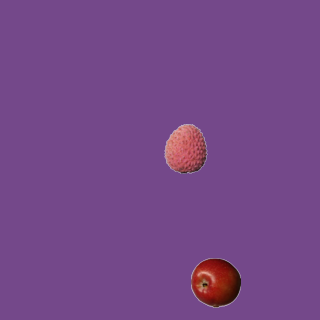Apple Braeburn: (190, 257, 240, 307)
Lychee: (160, 123, 210, 173)
